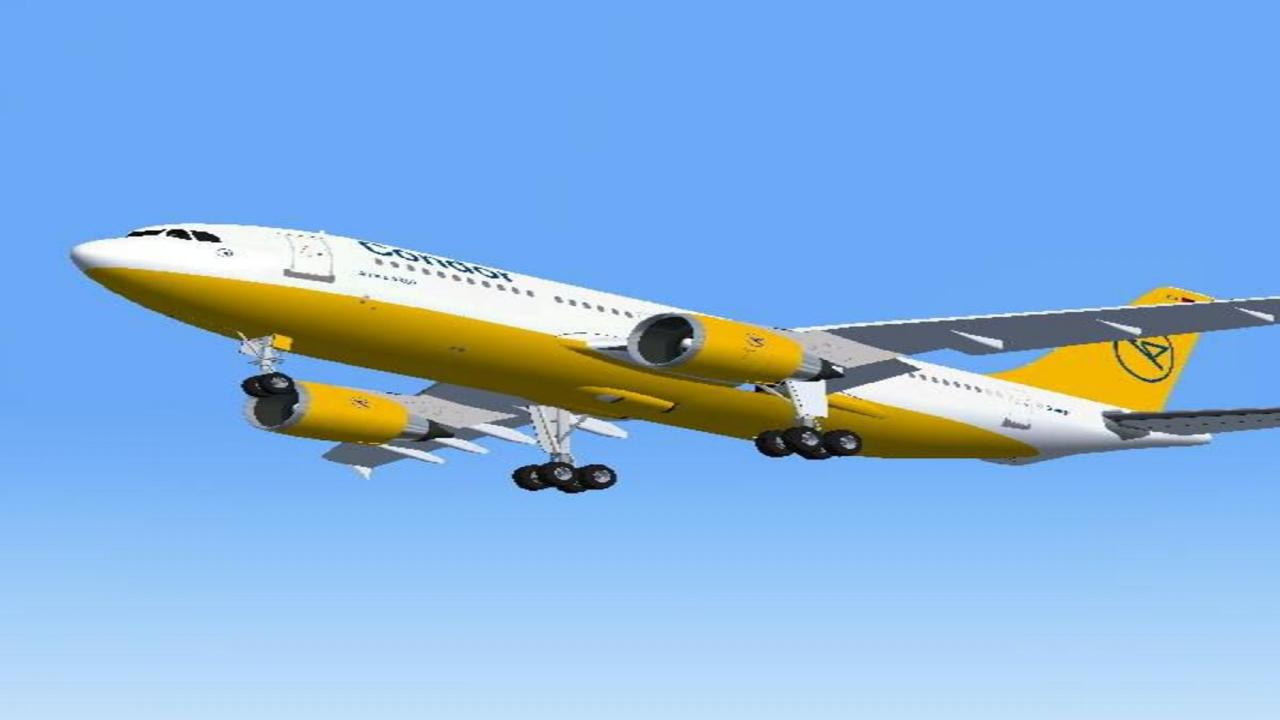Airplane: (58, 208, 1280, 506)
